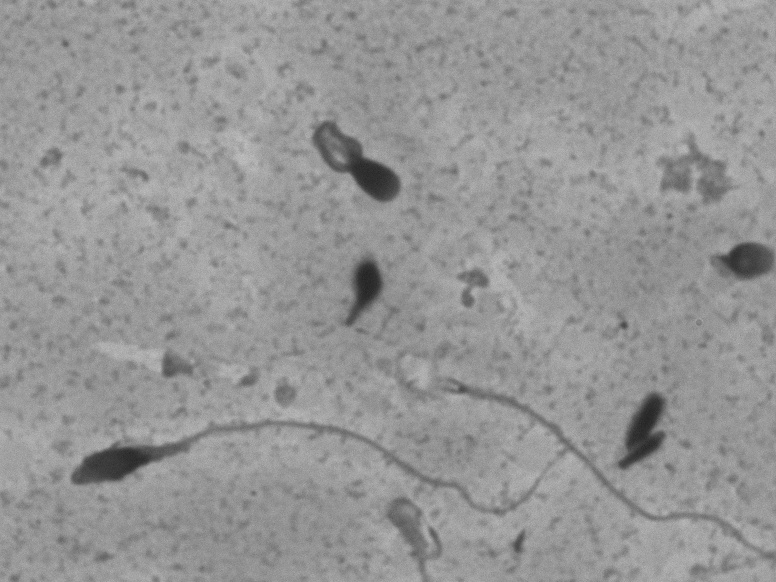Abnormal: (38, 392, 567, 560)
